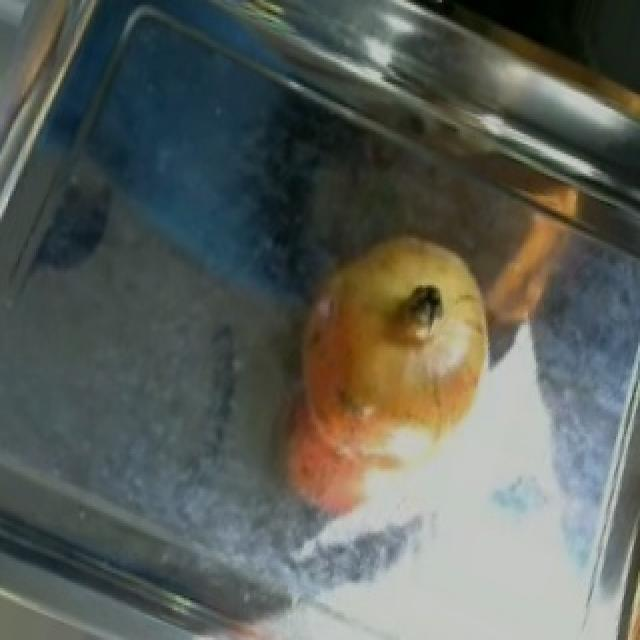fruit: (268, 201, 526, 471)
